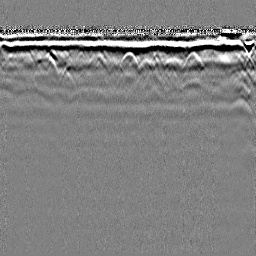cavity: (118, 50, 138, 65)
